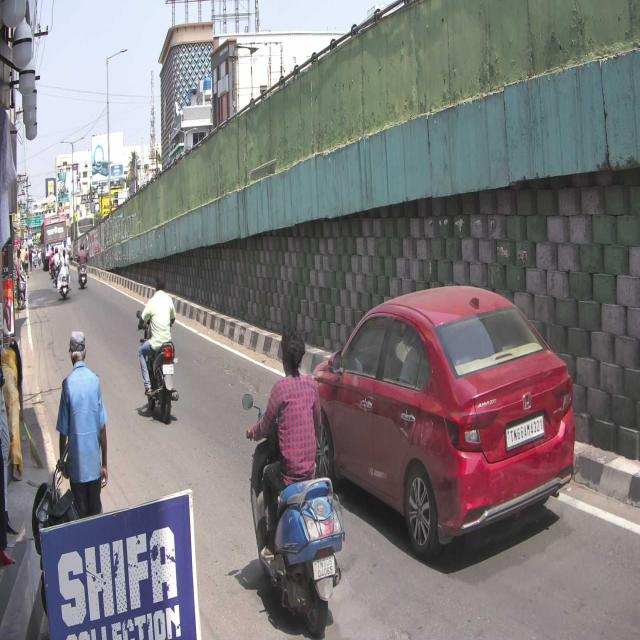single_rider: (244, 327, 347, 637), (136, 272, 180, 422)
